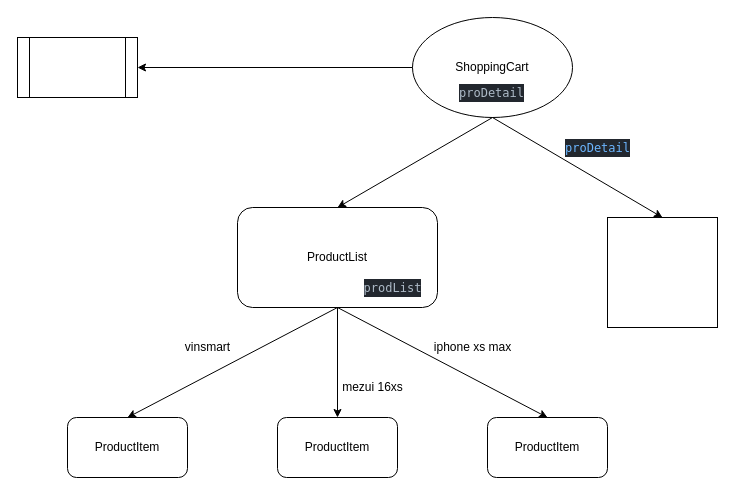
Image size: 735x495. Some labels were removed from this diagram. The shapes that lost their labels are listed below. From the top down, each one's centre as x and y in pixels, then its label:
At pixel 77 67: "TheCart".
At pixel 662 272: "ProductDetail".
